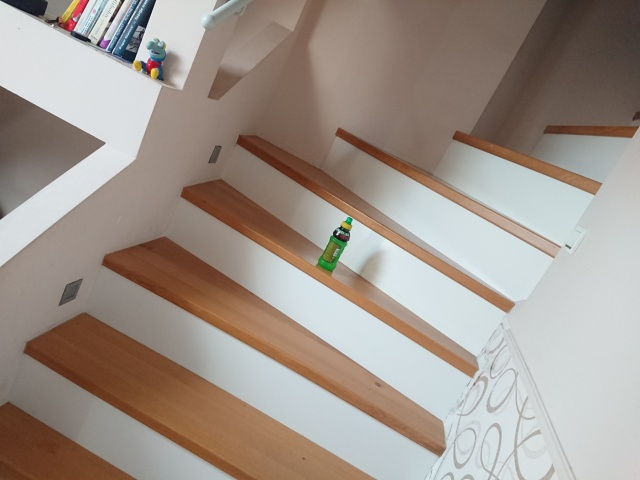Vindi Iso Sport Lemon-Grapefruit 500mL: (316, 214, 355, 272)
